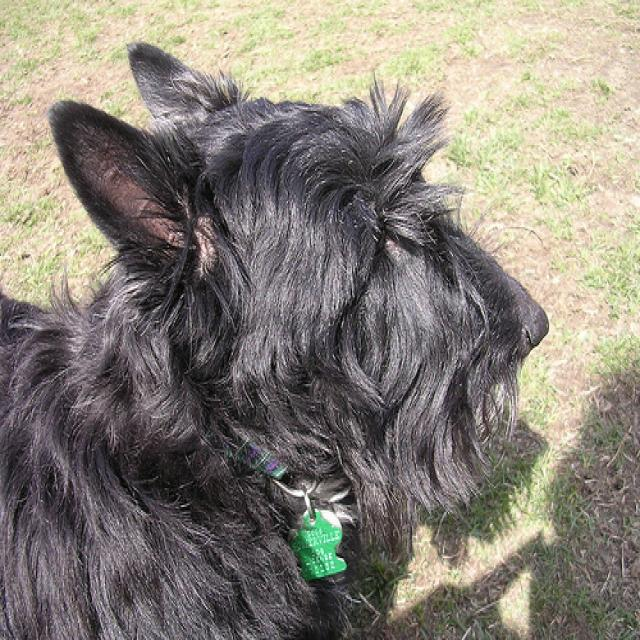dog-scottish_terrier: (1, 26, 554, 637)
